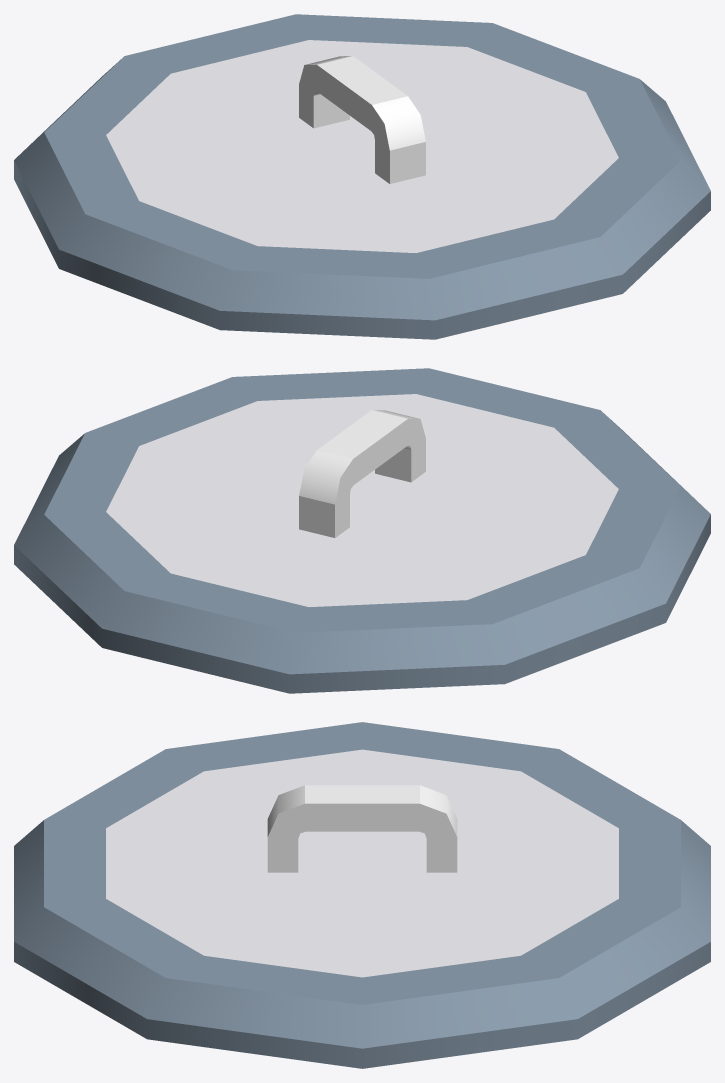
Rendered from potStewLid.dae.
3 views of the same model, one above another, from view 1: azimuth 30°, elevation 25°; view 2: azimuth 150°, elevation 25°; view 3: azimuth 270°, elevation 25° (orthographic). The views are drawn at different scales.
Parts seen in each view (by area): view 1: potStewLid; view 2: potStewLid; view 3: potStewLid.
Part boxes in pixels (bbox=[...]): potStewLid: bbox=[14, 14, 710, 339]; potStewLid: bbox=[14, 368, 710, 693]; potStewLid: bbox=[14, 722, 710, 1068].
Size of the model in its own units: 0.6575 by 0.1184 by 0.6253.
